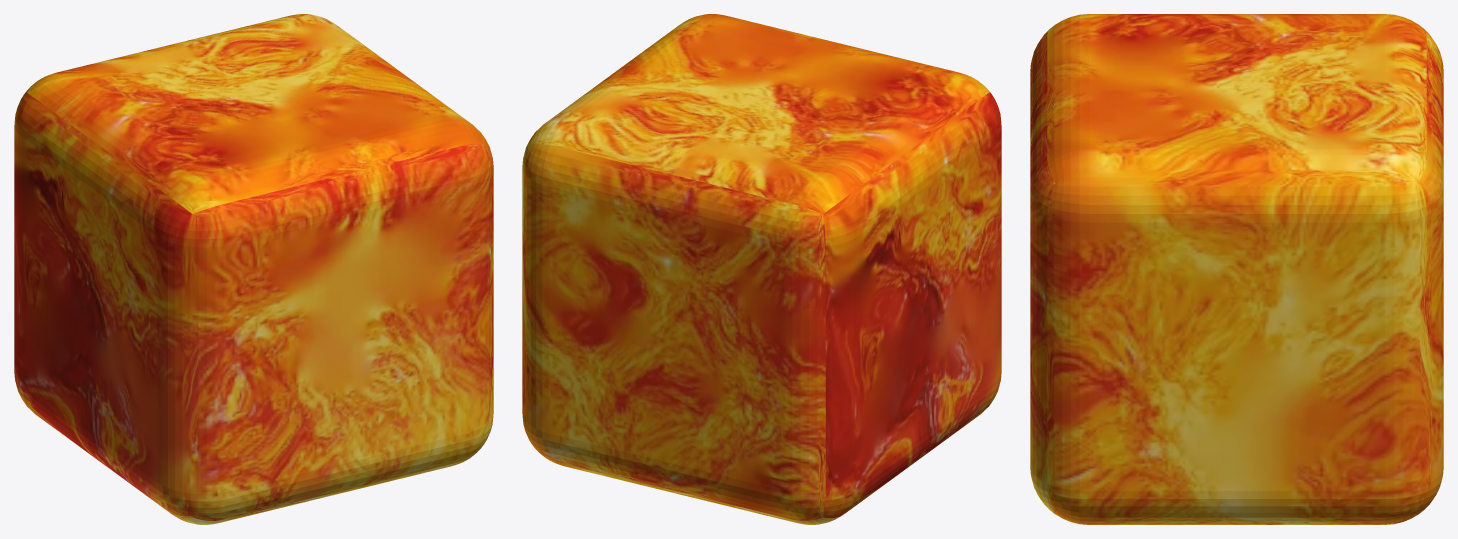
Rendered from explosion.obj.
3 views of the same model, side by side, from view 1: azimuth 30°, elevation 25°; view 2: azimuth 150°, elevation 25°; view 3: azimuth 270°, elevation 25° (orthographic). The views are drawn at different scales.
Visible parts, largest first — view 1: Cube; view 2: Cube; view 3: Cube.
Part boxes in pixels (x1,y1,x2,y2): Cube: [14, 14, 493, 524]; Cube: [522, 14, 1001, 524]; Cube: [1030, 14, 1443, 524].
Bounding box in the file's own units: 2 × 2 × 2.
